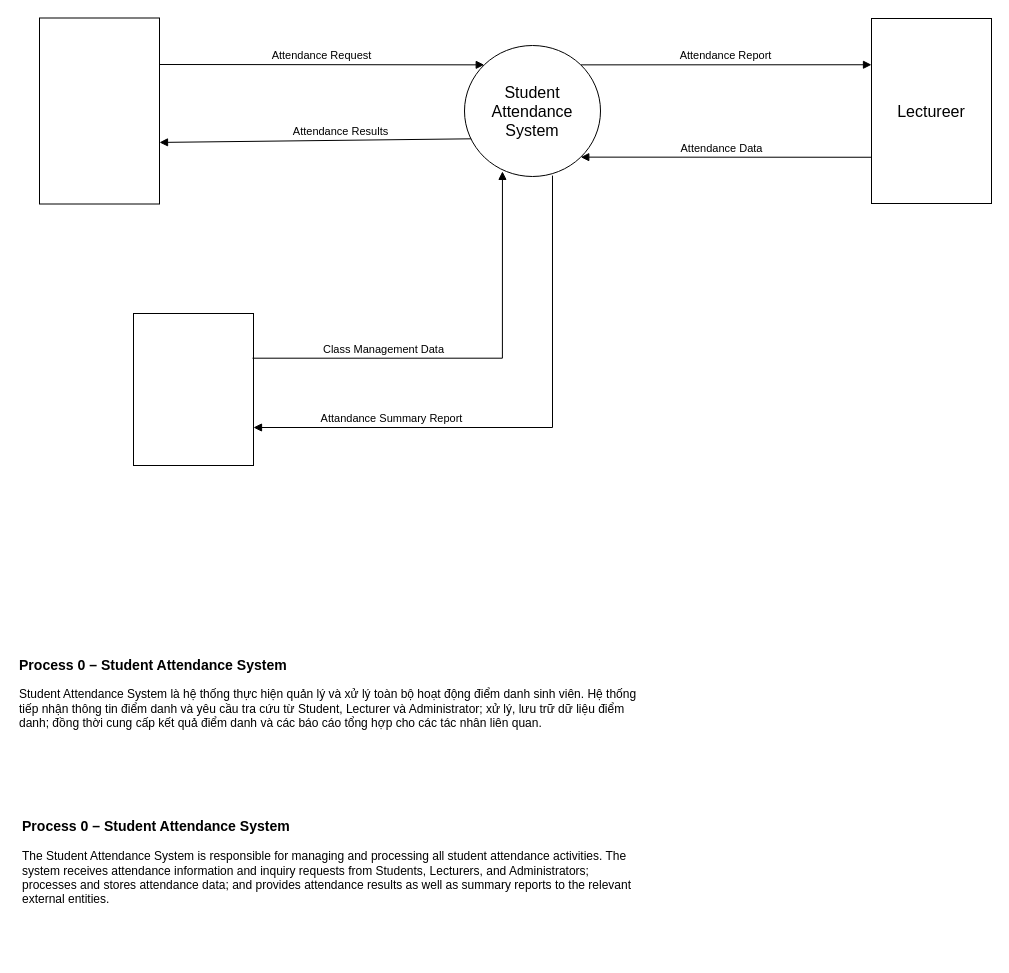
This 1009x973 diagram has some shape labels left out. The box of each missing label's shape, as (x1, y1, x2, y2) in pixels:
Administrator: (132, 312, 254, 466)
Student: (38, 17, 160, 204)
